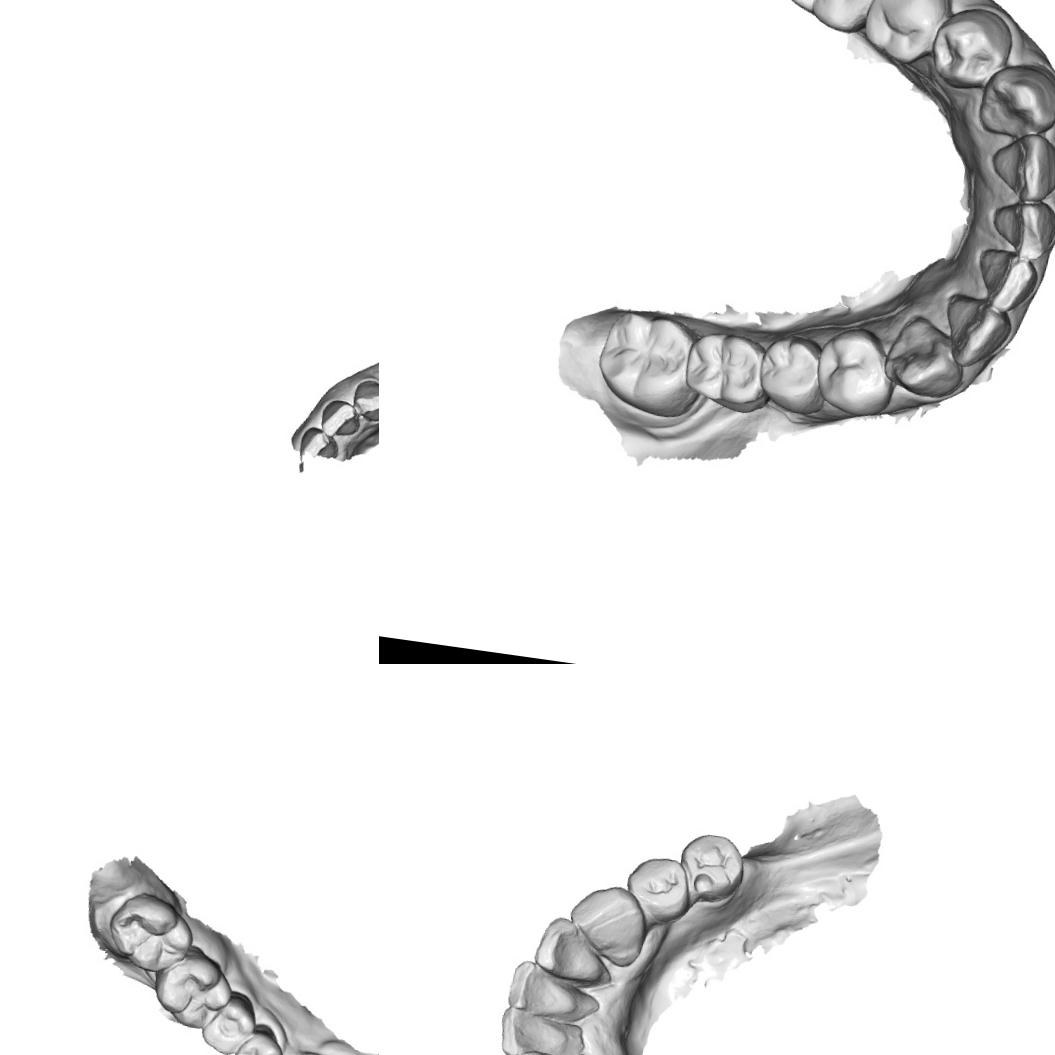canine: (562, 878, 651, 970), (885, 312, 969, 402), (975, 57, 1055, 142)
incisor: (500, 957, 606, 1029), (530, 912, 613, 988), (938, 294, 1014, 369), (493, 1001, 594, 1055), (986, 128, 1055, 202), (970, 239, 1038, 308), (989, 191, 1055, 257), (316, 396, 364, 444), (296, 423, 342, 468), (349, 376, 379, 426)
molar: (588, 303, 706, 420), (148, 940, 240, 1034), (103, 888, 199, 978), (682, 326, 770, 416), (776, 0, 900, 38), (197, 985, 261, 1055)
premolar: (816, 328, 892, 412), (758, 329, 830, 416), (932, 7, 1008, 88), (861, 0, 951, 66), (674, 829, 748, 908), (620, 852, 695, 926), (229, 1027, 289, 1055)
